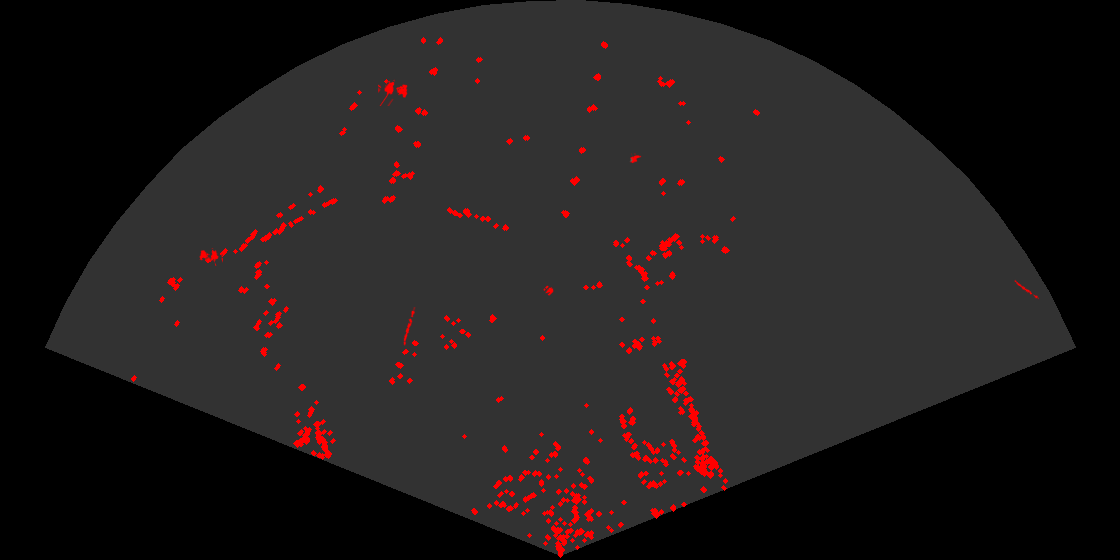AUV: (629, 153, 643, 165)
ball: (542, 284, 555, 297)
cage: (378, 79, 409, 106), (198, 246, 223, 266)
chain: (1013, 278, 1039, 301), (402, 307, 417, 346)
